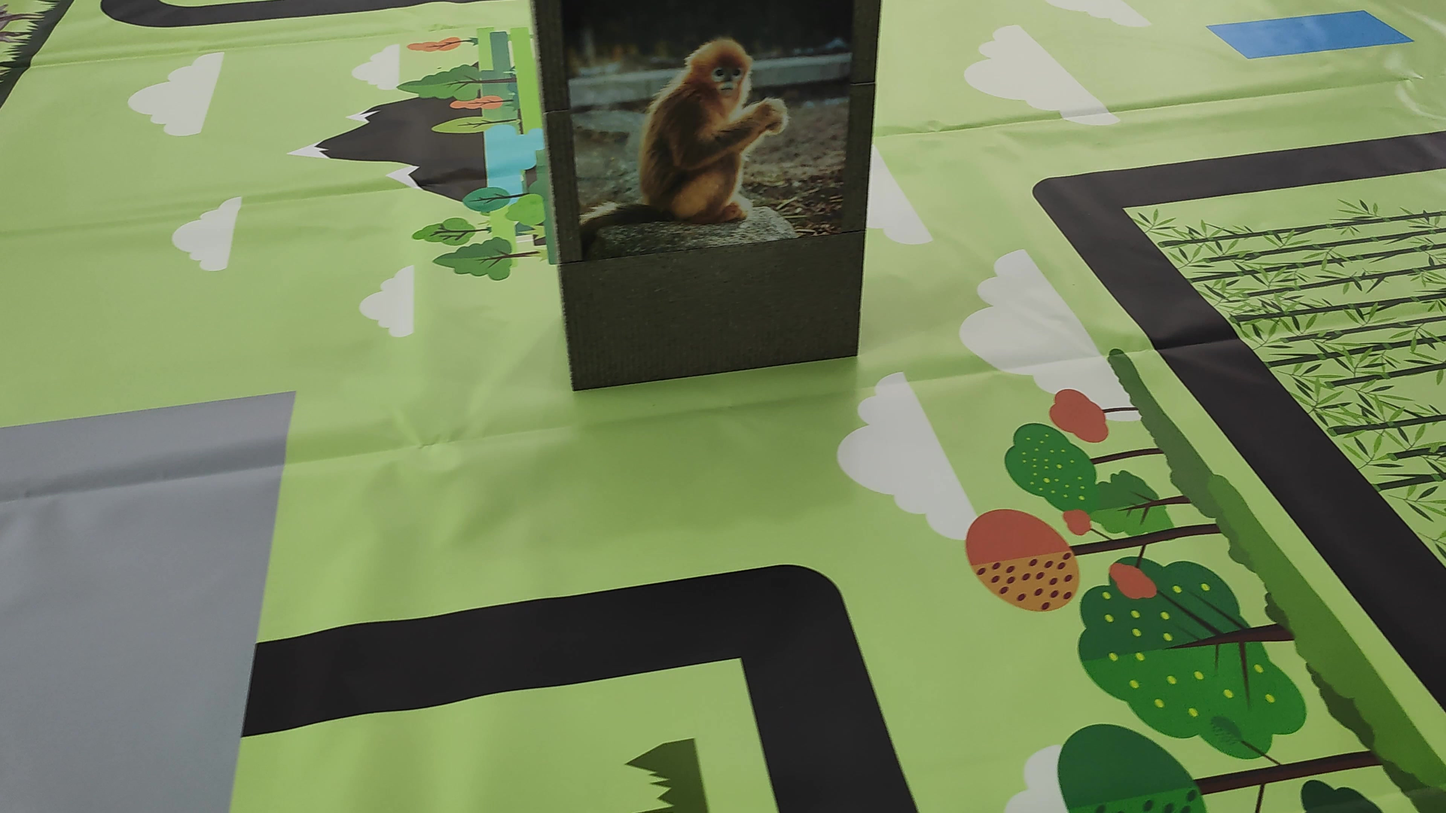monkey: (612, 18, 833, 238)
